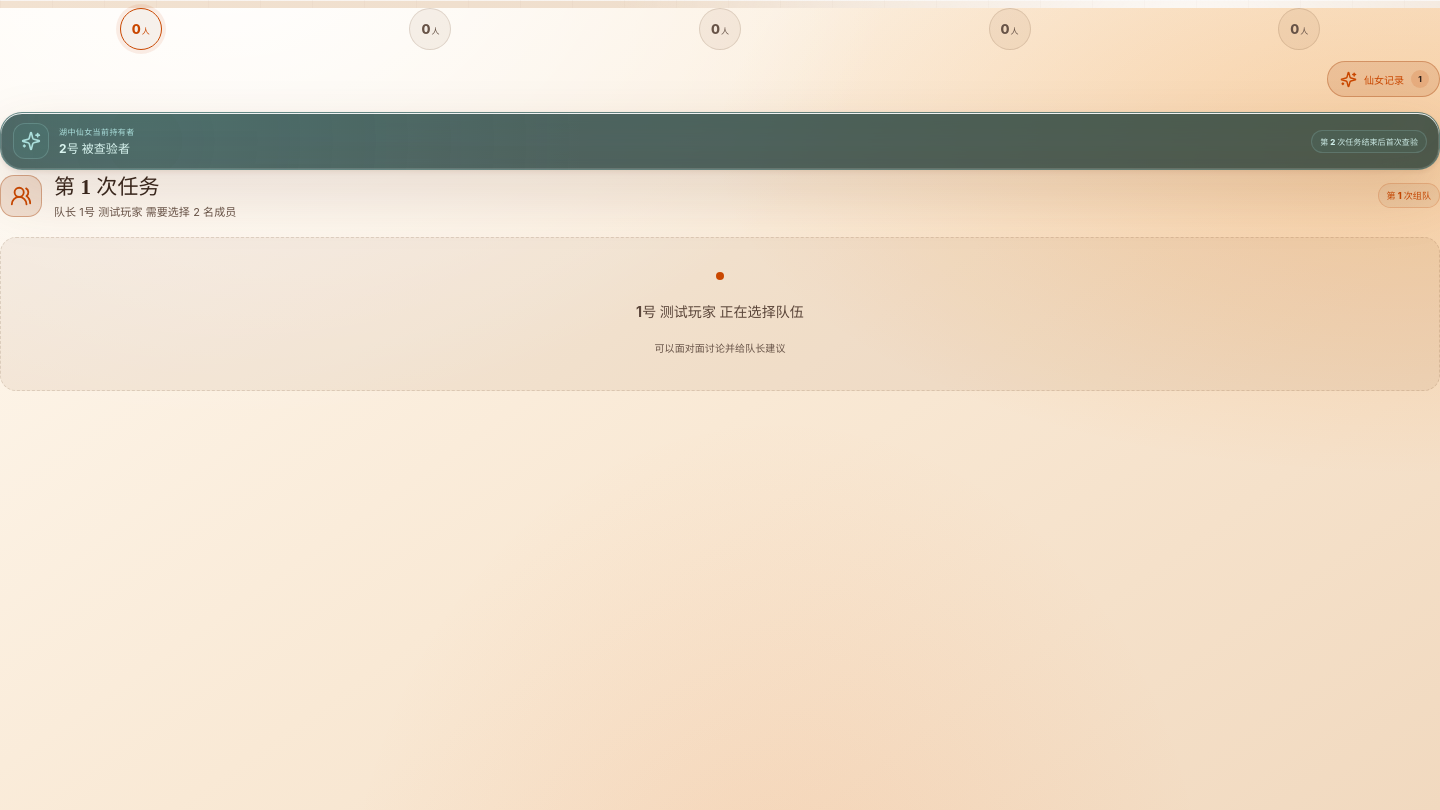
Test: AvalonTable role reveal › shows the lady history and only reveals the viewer own result
This screenshot has width=1440, height=810.
Click the button "仙女记录 1" at (1384, 79), box top-left (1327, 61), bottom-right (1439, 97)
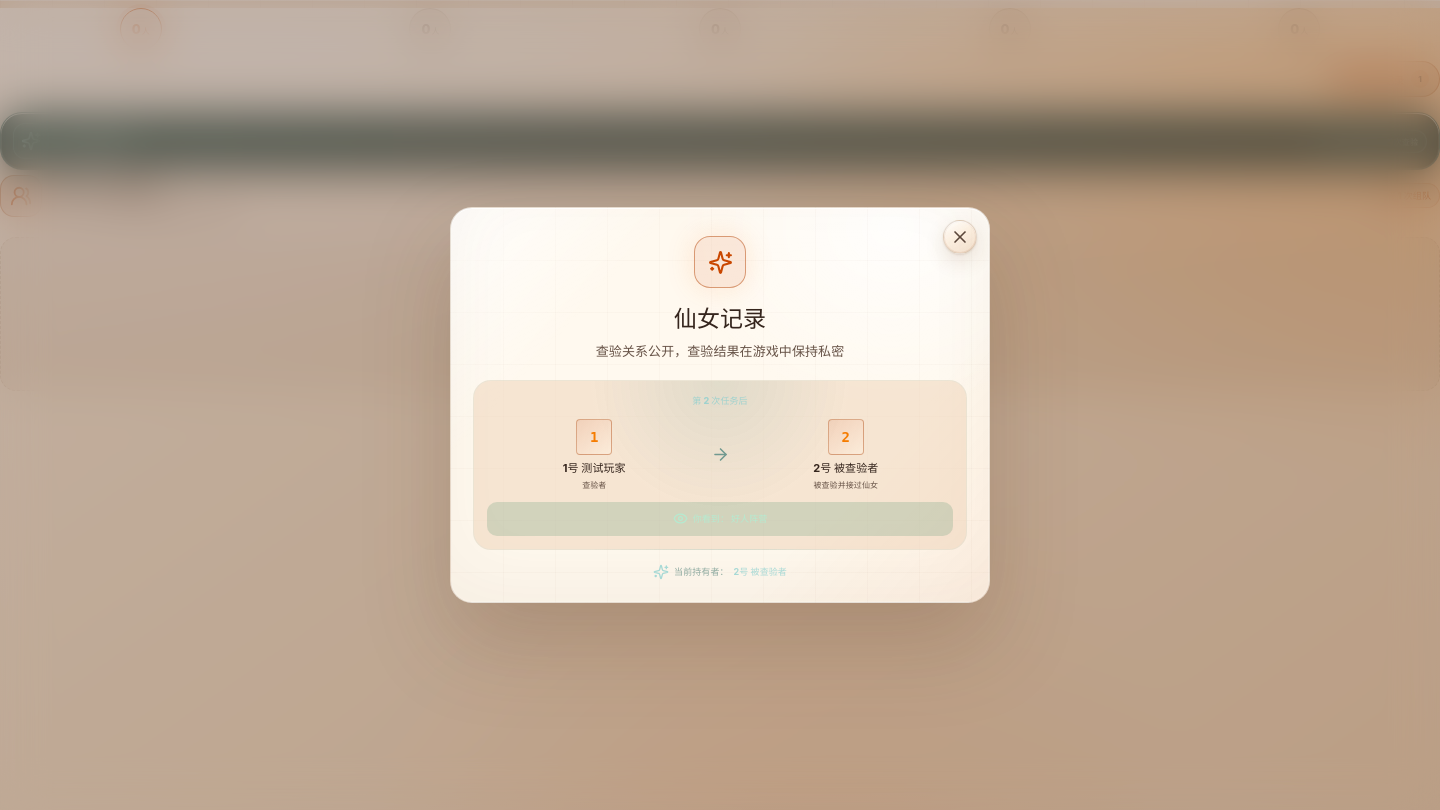
Now the dialog with class "lady-history-modal" shows "第 2 次任务后", box top-left (692, 395), bottom-right (748, 406)
Now the dialog with class "lady-history-modal" shows "1号 测试玩家", box top-left (563, 461), bottom-right (626, 475)
Now the dialog with class "lady-history-modal" shows "2号 被查验者", box top-left (813, 461), bottom-right (878, 475)
